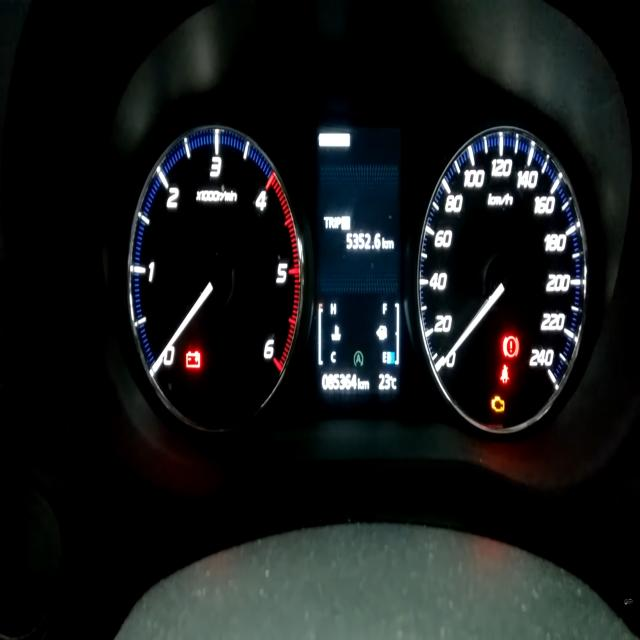Braking System Issue: (502, 335, 520, 358)
Charging System Issue: (186, 350, 200, 369)
Check Engine: (491, 395, 505, 412)
